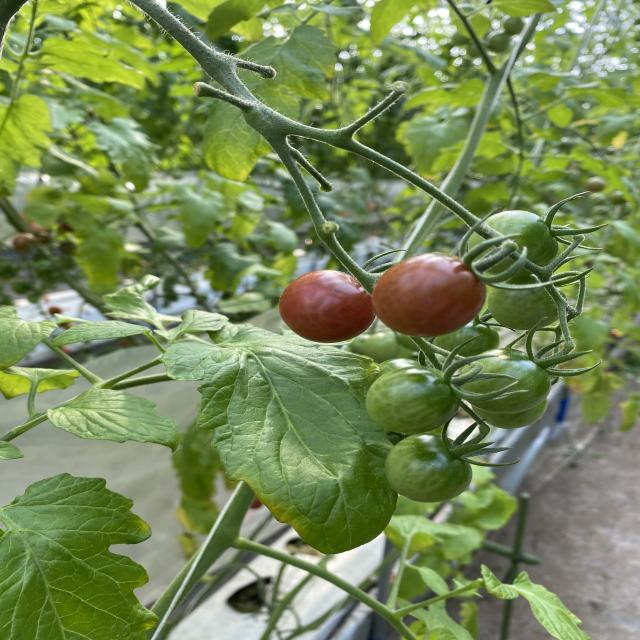c-half-riped: (372, 253, 486, 338)
c-riped: (278, 268, 377, 344)
c-unriped: (364, 365, 462, 436), (466, 209, 560, 278), (460, 346, 552, 414), (385, 433, 473, 503), (487, 272, 568, 330), (434, 318, 500, 364), (474, 396, 548, 430)
